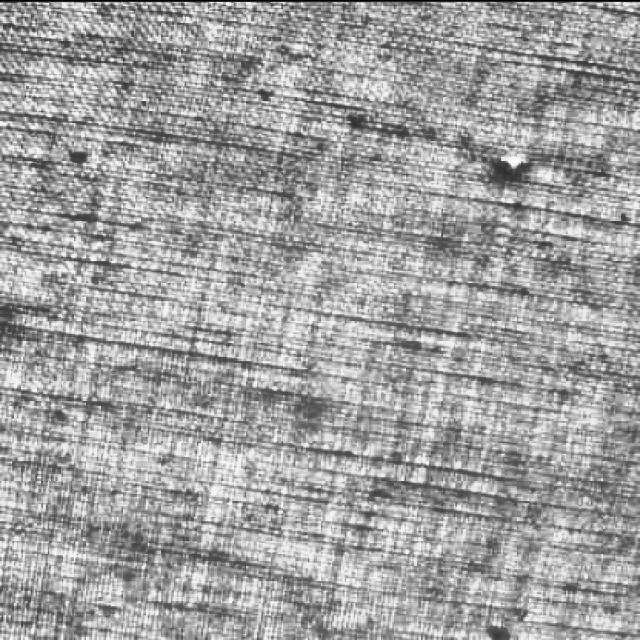hole: (492, 144, 534, 178)
